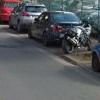Car: (10, 2, 85, 49)
